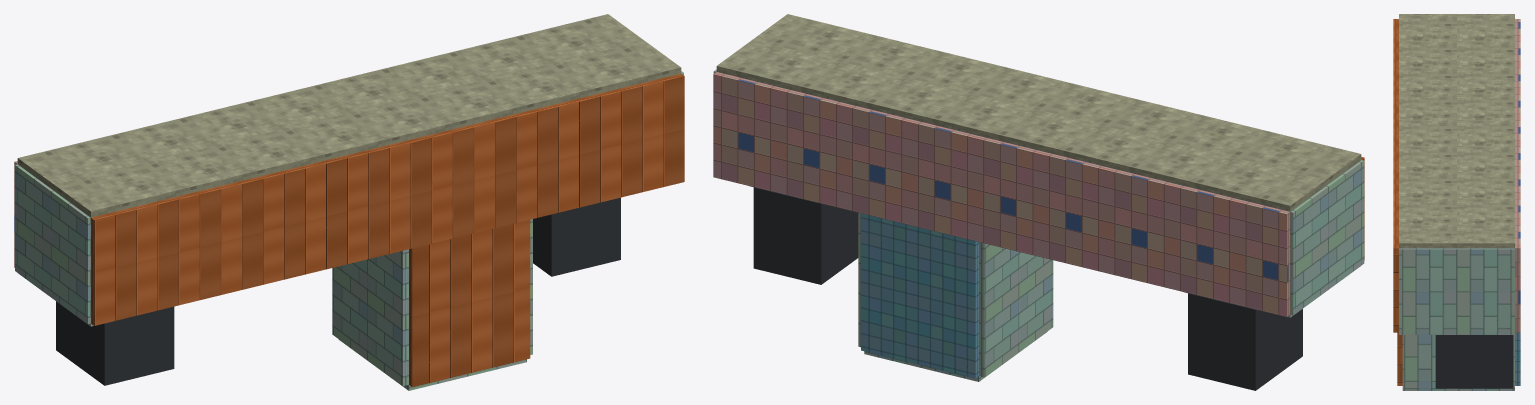
The picture shows the model from 3 angles, left to right: view 1: azimuth 30°, elevation 25°; view 2: azimuth 150°, elevation 25°; view 3: azimuth 270°, elevation 25°; orthographic projection. The views are drawn at different scales.
Parts seen in each view (by area): view 1: ceiling_0_1, wall_0_17, ceiling_1_117, wall_0_19, wall_1_123, niche_0_57, niche_0_73; view 2: floor_0_0, wall_0_17, floor_1_116, niche_0_57, niche_0_73, wall_0_19, wall_1_123; view 3: wall_0_17, wall_0_20, niche_0_73, wall_1_124, floor_0_0, ceiling_0_1, wall_1_122, floor_1_116, ceiling_1_117, wall_0_42.
Part boxes in pixels (<box>): ceiling_0_1: <box>91,73,684,325</box>; wall_0_17: <box>17,14,681,217</box>; ceiling_1_117: <box>409,220,530,387</box>; wall_0_19: <box>15,164,90,323</box>; wall_1_123: <box>332,249,408,385</box>; niche_0_57: <box>56,301,174,385</box>; niche_0_73: <box>533,197,620,276</box>; floor_0_0: <box>713,72,1290,316</box>; wall_0_17: <box>716,14,1361,211</box>; floor_1_116: <box>861,213,978,378</box>; niche_0_57: <box>1188,293,1302,390</box>; niche_0_73: <box>753,187,858,284</box>; wall_0_19: <box>1290,160,1364,315</box>; wall_1_123: <box>979,242,1053,377</box>; wall_0_17: <box>1399,14,1514,248</box>; wall_0_20: <box>1399,248,1514,333</box>; niche_0_73: <box>1435,335,1513,388</box>; wall_1_124: <box>1402,335,1514,388</box>; floor_0_0: <box>1515,19,1520,332</box>; ceiling_0_1: <box>1393,19,1398,332</box>; wall_1_122: <box>1402,388,1514,390</box>; floor_1_116: <box>1515,332,1520,385</box>; ceiling_1_117: <box>1397,332,1402,385</box>; wall_0_42: <box>1399,333,1514,334</box>.
Bounding box in the file's own units: 14.14 × 5.88 × 3.28.
Materials: 17 (10 with a texture image).
